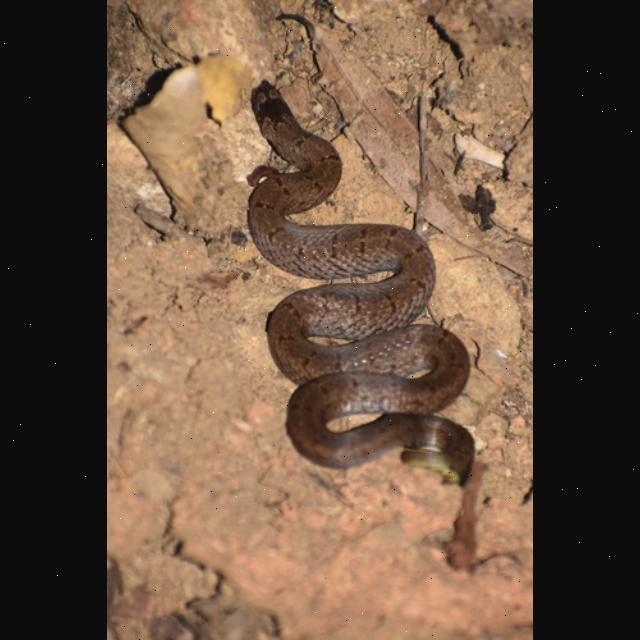snake: (242, 63, 480, 490)
